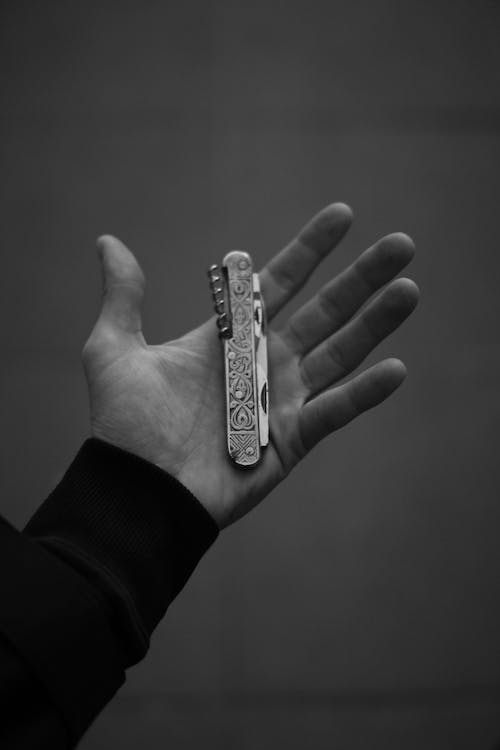knife: (205, 246, 272, 473)
